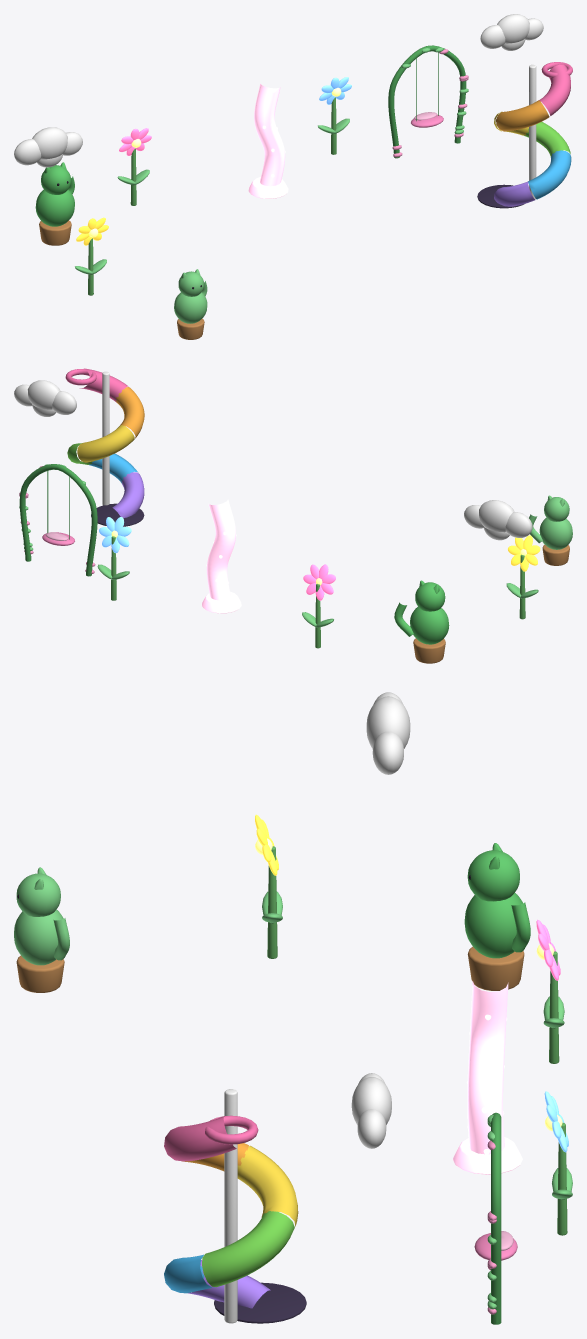
The model's file is decor-garden.glb.
The picture shows the model from 3 angles, top to bottom: view 1: azimuth 30°, elevation 25°; view 2: azimuth 150°, elevation 25°; view 3: azimuth 270°, elevation 25°; orthographic projection. The views are drawn at different scales.
Visible parts, largest first — view 1: decor-item-spiral-slide-mesh, decor-item-cotton-candy-tree-mesh, decor-item-topiary-a-mesh, decor-item-cloud-a-mesh, decor-item-topiary-b-mesh, decor-item-petal-swing-mesh, decor-item-cloud-b-mesh, decor-item-glow-flower-yellow-mesh, decor-item-glow-flower-blue-mesh, decor-item-glow-flower-pink-mesh, swing-seat-mesh; view 2: decor-item-spiral-slide-mesh, decor-item-topiary-a-mesh, decor-item-cotton-candy-tree-mesh, decor-item-topiary-b-mesh, decor-item-cloud-a-mesh, decor-item-petal-swing-mesh, decor-item-cloud-b-mesh, decor-item-glow-flower-pink-mesh, decor-item-glow-flower-blue-mesh, decor-item-glow-flower-yellow-mesh, swing-seat-mesh; view 3: decor-item-spiral-slide-mesh, decor-item-topiary-a-mesh, decor-item-cotton-candy-tree-mesh, decor-item-topiary-b-mesh, decor-item-cloud-a-mesh, decor-item-petal-swing-mesh, decor-item-cloud-b-mesh, decor-item-glow-flower-blue-mesh, decor-item-glow-flower-yellow-mesh, decor-item-glow-flower-pink-mesh.
Boxes of the visible parts, box(x1,y1,x2,y2) form: decor-item-spiral-slide-mesh: box(477, 62, 572, 208); decor-item-cotton-candy-tree-mesh: box(248, 84, 288, 198); decor-item-topiary-a-mesh: box(35, 162, 74, 245); decor-item-cloud-a-mesh: box(14, 127, 82, 167); decor-item-topiary-b-mesh: box(174, 269, 207, 339); decor-item-petal-swing-mesh: box(388, 45, 468, 158); decor-item-cloud-b-mesh: box(480, 14, 543, 50); decor-item-glow-flower-yellow-mesh: box(75, 217, 108, 295); decor-item-glow-flower-blue-mesh: box(318, 77, 351, 154); decor-item-glow-flower-pink-mesh: box(117, 128, 151, 205); swing-seat-mesh: box(411, 52, 443, 127); decor-item-spiral-slide-mesh: box(65, 368, 144, 526); decor-item-topiary-a-mesh: box(394, 580, 449, 663); decor-item-cotton-candy-tree-mesh: box(202, 499, 241, 613); decor-item-topiary-b-mesh: box(529, 495, 572, 565); decor-item-cloud-a-mesh: box(464, 500, 532, 540); decor-item-petal-swing-mesh: box(19, 464, 97, 576); decor-item-cloud-b-mesh: box(14, 380, 76, 416); decor-item-glow-flower-pink-mesh: box(302, 564, 335, 648); decor-item-glow-flower-blue-mesh: box(97, 517, 131, 600); decor-item-glow-flower-yellow-mesh: box(506, 535, 540, 619); swing-seat-mesh: box(42, 471, 74, 545); decor-item-spiral-slide-mesh: box(164, 1089, 306, 1323); decor-item-topiary-a-mesh: box(464, 843, 530, 990); decor-item-cotton-candy-tree-mesh: box(453, 981, 522, 1174); decor-item-topiary-b-mesh: box(14, 867, 69, 992); decor-item-cloud-a-mesh: box(366, 692, 410, 774); decor-item-petal-swing-mesh: box(487, 1112, 501, 1324); decor-item-cloud-b-mesh: box(351, 1073, 391, 1148); decor-item-glow-flower-blue-mesh: box(544, 1091, 572, 1235); decor-item-glow-flower-yellow-mesh: box(255, 814, 282, 958); decor-item-glow-flower-pink-mesh: box(536, 919, 564, 1063).
Size of the model in its own units: 17.1 by 4.9 by 9.11.
